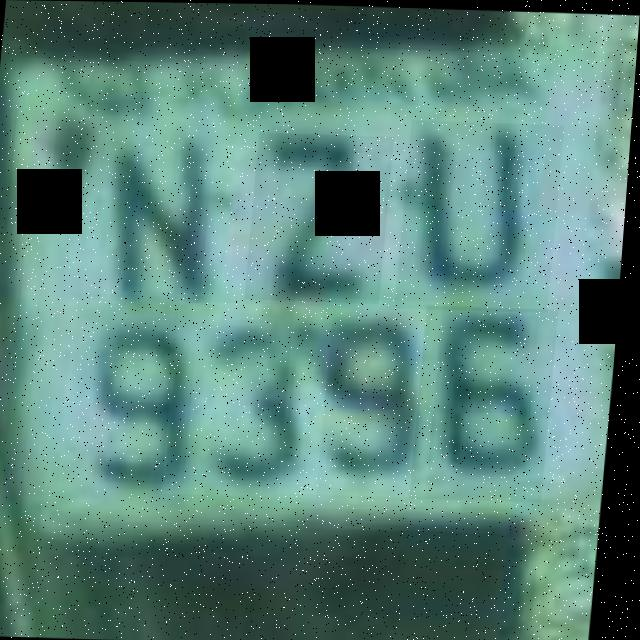3: (168, 300, 338, 497)
6: (416, 304, 563, 500)
9: (285, 296, 447, 495), (67, 293, 216, 501)
N: (95, 114, 245, 305)
U: (399, 118, 566, 311)
Z: (248, 131, 396, 302)
